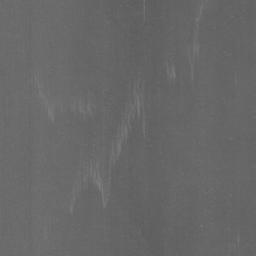Silk spot: (85, 178, 101, 200)
